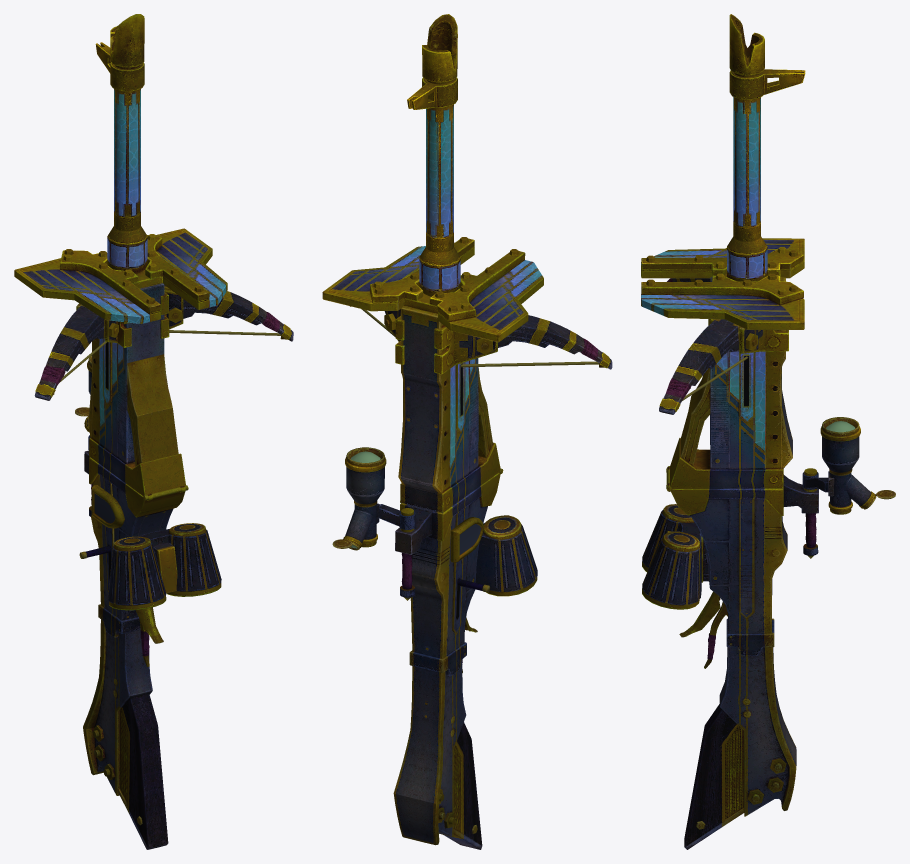
The model's file is bs_hbg005.obj.
3 views of the same model, side by side, from view 1: azimuth 30°, elevation 25°; view 2: azimuth 150°, elevation 25°; view 3: azimuth 270°, elevation 25° (orthographic). The views are drawn at different scales.
Parts seen in each view (by area): view 1: bs_hbg005_000_LOD_1, bs_hbg005_001_LOD_1, bs_hbg005_006_LOD_1, bs_hbg005_005_LOD_1, bs_hbg005_009_LOD_1, bs_hbg005_004_LOD_1, bs_hbg005_003_LOD_1, bs_hbg005_008_LOD_1, bs_hbg005_002_LOD_1; view 2: bs_hbg005_000_LOD_1, bs_hbg005_001_LOD_1, bs_hbg005_006_LOD_1, bs_hbg005_005_LOD_1, bs_hbg005_007_LOD_1, bs_hbg005_009_LOD_1, bs_hbg005_004_LOD_1, bs_hbg005_002_LOD_1; view 3: bs_hbg005_000_LOD_1, bs_hbg005_001_LOD_1, bs_hbg005_006_LOD_1, bs_hbg005_005_LOD_1, bs_hbg005_009_LOD_1, bs_hbg005_007_LOD_1, bs_hbg005_003_LOD_1.
Part boxes in pixels (<box>): bs_hbg005_000_LOD_1: <box>79,450,184,849</box>; bs_hbg005_001_LOD_1: <box>76,270,188,500</box>; bs_hbg005_006_LOD_1: <box>14,228,227,323</box>; bs_hbg005_005_LOD_1: <box>95,14,147,273</box>; bs_hbg005_009_LOD_1: <box>108,523,221,610</box>; bs_hbg005_004_LOD_1: <box>34,305,104,400</box>; bs_hbg005_003_LOD_1: <box>164,285,293,341</box>; bs_hbg005_008_LOD_1: <box>153,542,177,593</box>; bs_hbg005_002_LOD_1: <box>59,330,280,382</box>; bs_hbg005_000_LOD_1: <box>393,472,500,849</box>; bs_hbg005_001_LOD_1: <box>384,293,503,513</box>; bs_hbg005_006_LOD_1: <box>322,237,543,342</box>; bs_hbg005_005_LOD_1: <box>407,14,460,295</box>; bs_hbg005_007_LOD_1: <box>332,447,415,550</box>; bs_hbg005_009_LOD_1: <box>475,515,537,596</box>; bs_hbg005_004_LOD_1: <box>498,315,612,369</box>; bs_hbg005_002_LOD_1: <box>361,309,598,367</box>; bs_hbg005_000_LOD_1: <box>671,474,818,849</box>; bs_hbg005_001_LOD_1: <box>666,270,792,491</box>; bs_hbg005_006_LOD_1: <box>641,238,804,329</box>; bs_hbg005_005_LOD_1: <box>727,14,805,281</box>; bs_hbg005_009_LOD_1: <box>642,504,701,609</box>; bs_hbg005_007_LOD_1: <box>802,417,895,514</box>; bs_hbg005_003_LOD_1: <box>659,319,740,414</box>.
Size of the model in its own units: 78.46 by 237 by 65.9.
